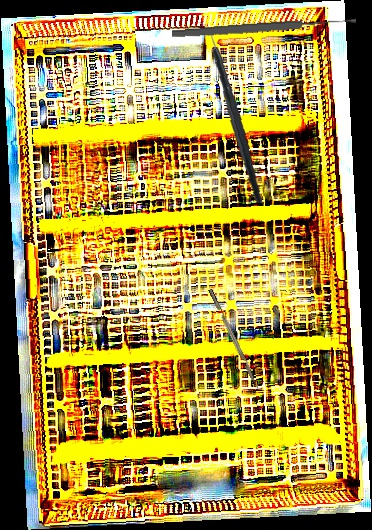Chopper: (182, 21, 277, 204), (208, 286, 266, 394)
Surgical Spoon: (171, 15, 357, 40)
